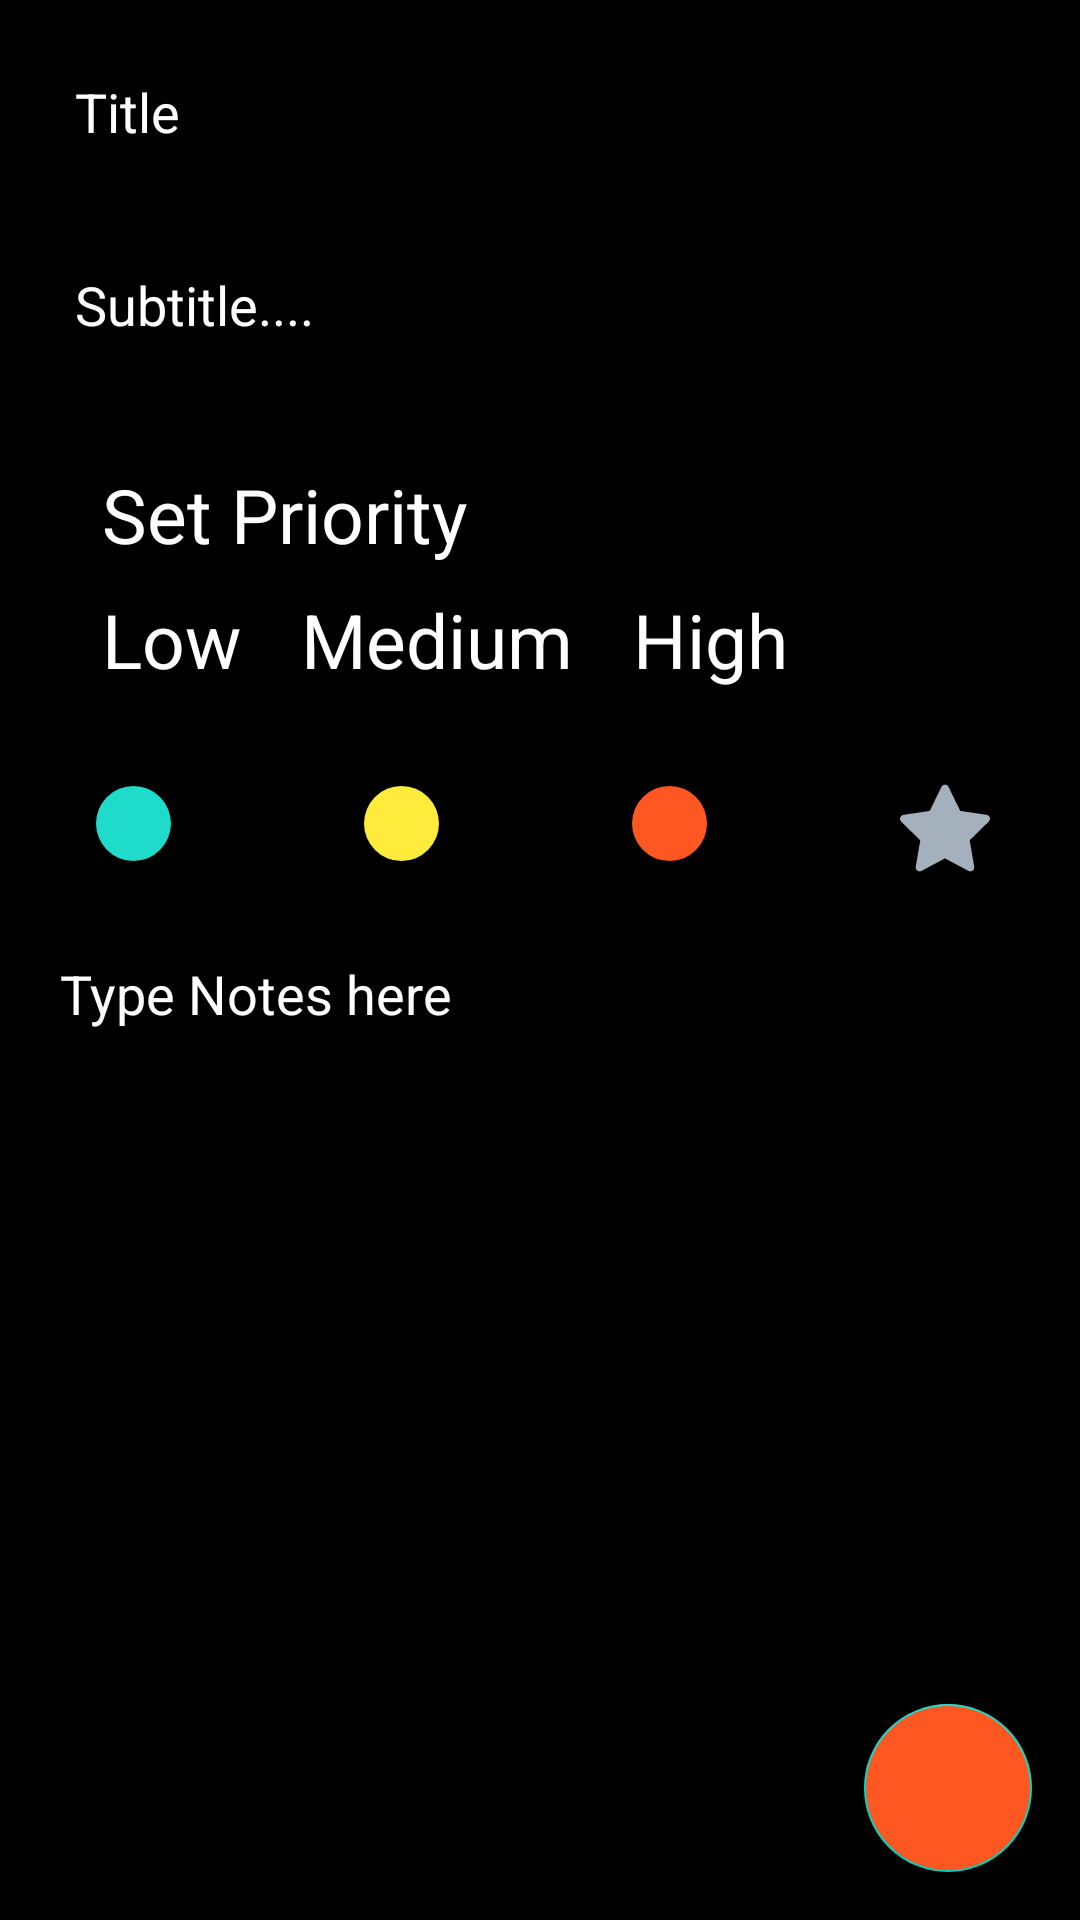

Named icons in this screenshot (1080×1920) and their bounding boxes, (x1=x1, y1=y1, x2=x2, y2=y2):
favourite empty: (x1=900, y1=784, x2=990, y2=872)
